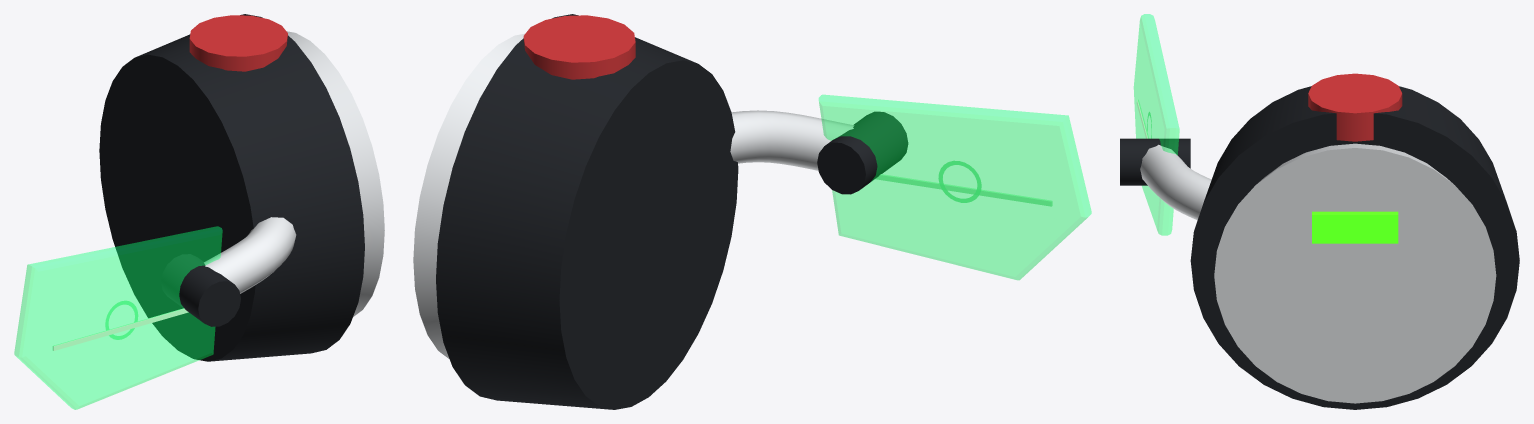
File: scouter.glb
3 renders of one model, left to right at view 1: azimuth 30°, elevation 25°; view 2: azimuth 150°, elevation 25°; view 3: azimuth 270°, elevation 25°, orthographic. The views are drawn at different scales.
Parts seen in each view (by area): view 1: object 1, object 7, object 2, object 3, object 6, object 5, ScouterScanlineMesh, object 8; view 2: object 1, object 7, object 2, object 3, object 5, object 6, ScouterScanlineMesh; view 3: object 2, object 1, object 7, object 3, object 5, object 4, object 6.
Part boxes in pixels (x1,y1,x2,y2): object 1: (99,14,364,361); object 7: (14,226,222,409); object 2: (287,31,384,316); object 3: (189,15,287,71); object 6: (161,254,240,326); object 5: (204,217,296,293); ScouterScanlineMesh: (52,308,188,350); object 8: (105,300,138,339); object 1: (436,14,738,409); object 7: (819,95,1091,279); object 2: (413,33,524,358); object 3: (523,15,635,79); object 5: (730,110,854,170); object 6: (817,111,908,194); ScouterScanlineMesh: (875,174,1052,206); object 2: (1214,143,1496,403); object 1: (1190,86,1519,409); object 7: (1134,14,1179,235); object 3: (1308,73,1402,141); object 5: (1140,144,1211,220); object 4: (1312,211,1398,243); object 6: (1120,138,1190,185).
Size of the model in its own units: 1.16 by 0.84 by 1.02.
